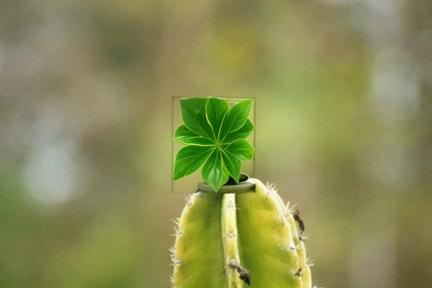pottedplant: (172, 97, 255, 192)
